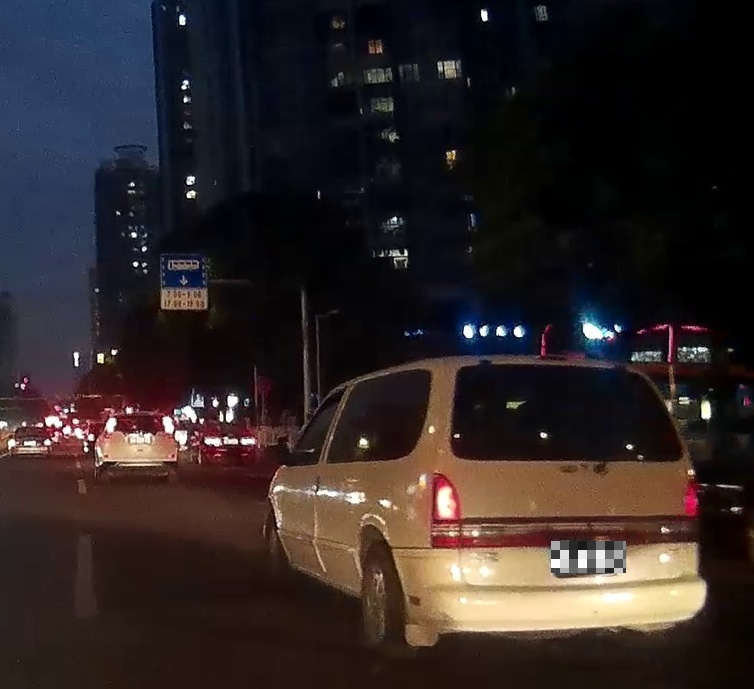L_light: (430, 472, 461, 549), (104, 417, 117, 439)
R_light: (680, 478, 702, 542), (163, 416, 176, 438)
T_light: (544, 363, 576, 374), (134, 415, 146, 419)
night-left: (429, 354, 707, 659)
night-no: (98, 411, 178, 482)
plate_1: (551, 541, 626, 573)
